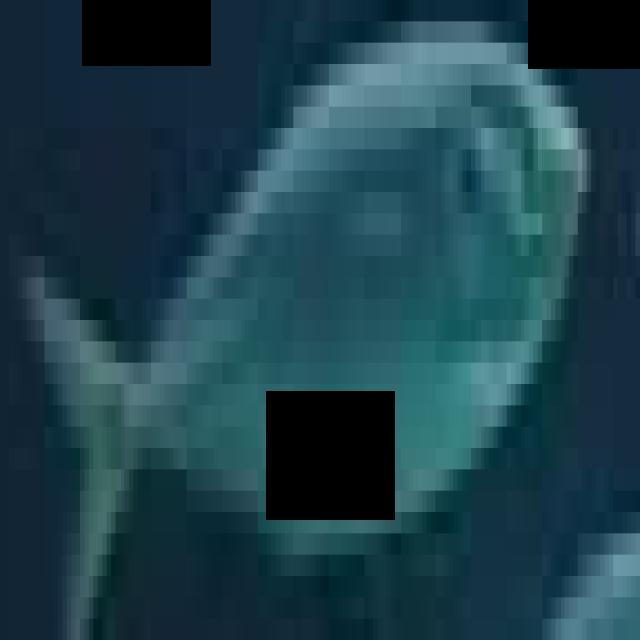fish: (4, 21, 640, 640)
